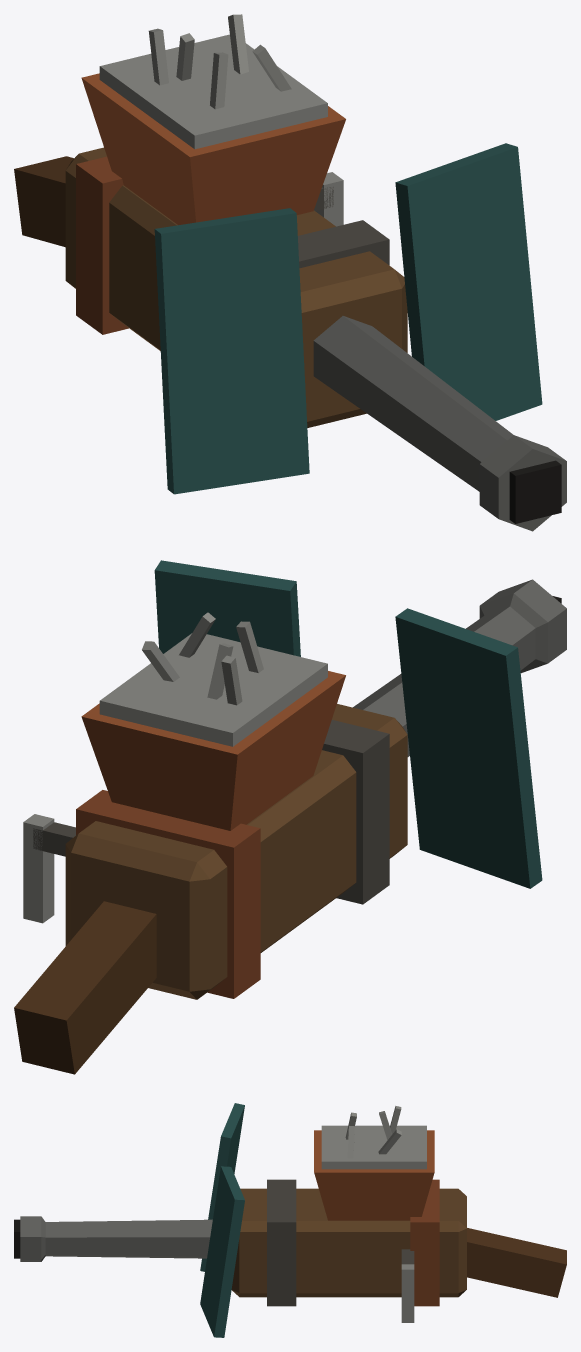
The model's file is torre_lancador_1.glb.
3 views of the same model, one above another, from view 1: azimuth 30°, elevation 25°; view 2: azimuth 150°, elevation 25°; view 3: azimuth 270°, elevation 25° (orthographic). The views are drawn at different scales.
Visible parts, largest first — view 1: torre_lancador_1.001; view 2: torre_lancador_1.001; view 3: torre_lancador_1.001.
Part boxes in pixels (x1=…): torre_lancador_1.001: x1=14, y1=14, x2=566, y2=531; torre_lancador_1.001: x1=14, y1=560, x2=566, y2=1074; torre_lancador_1.001: x1=14, y1=1103, x2=566, y2=1337.
Bounding box in the file's own units: 0.5601 × 0.456 × 1.31.
